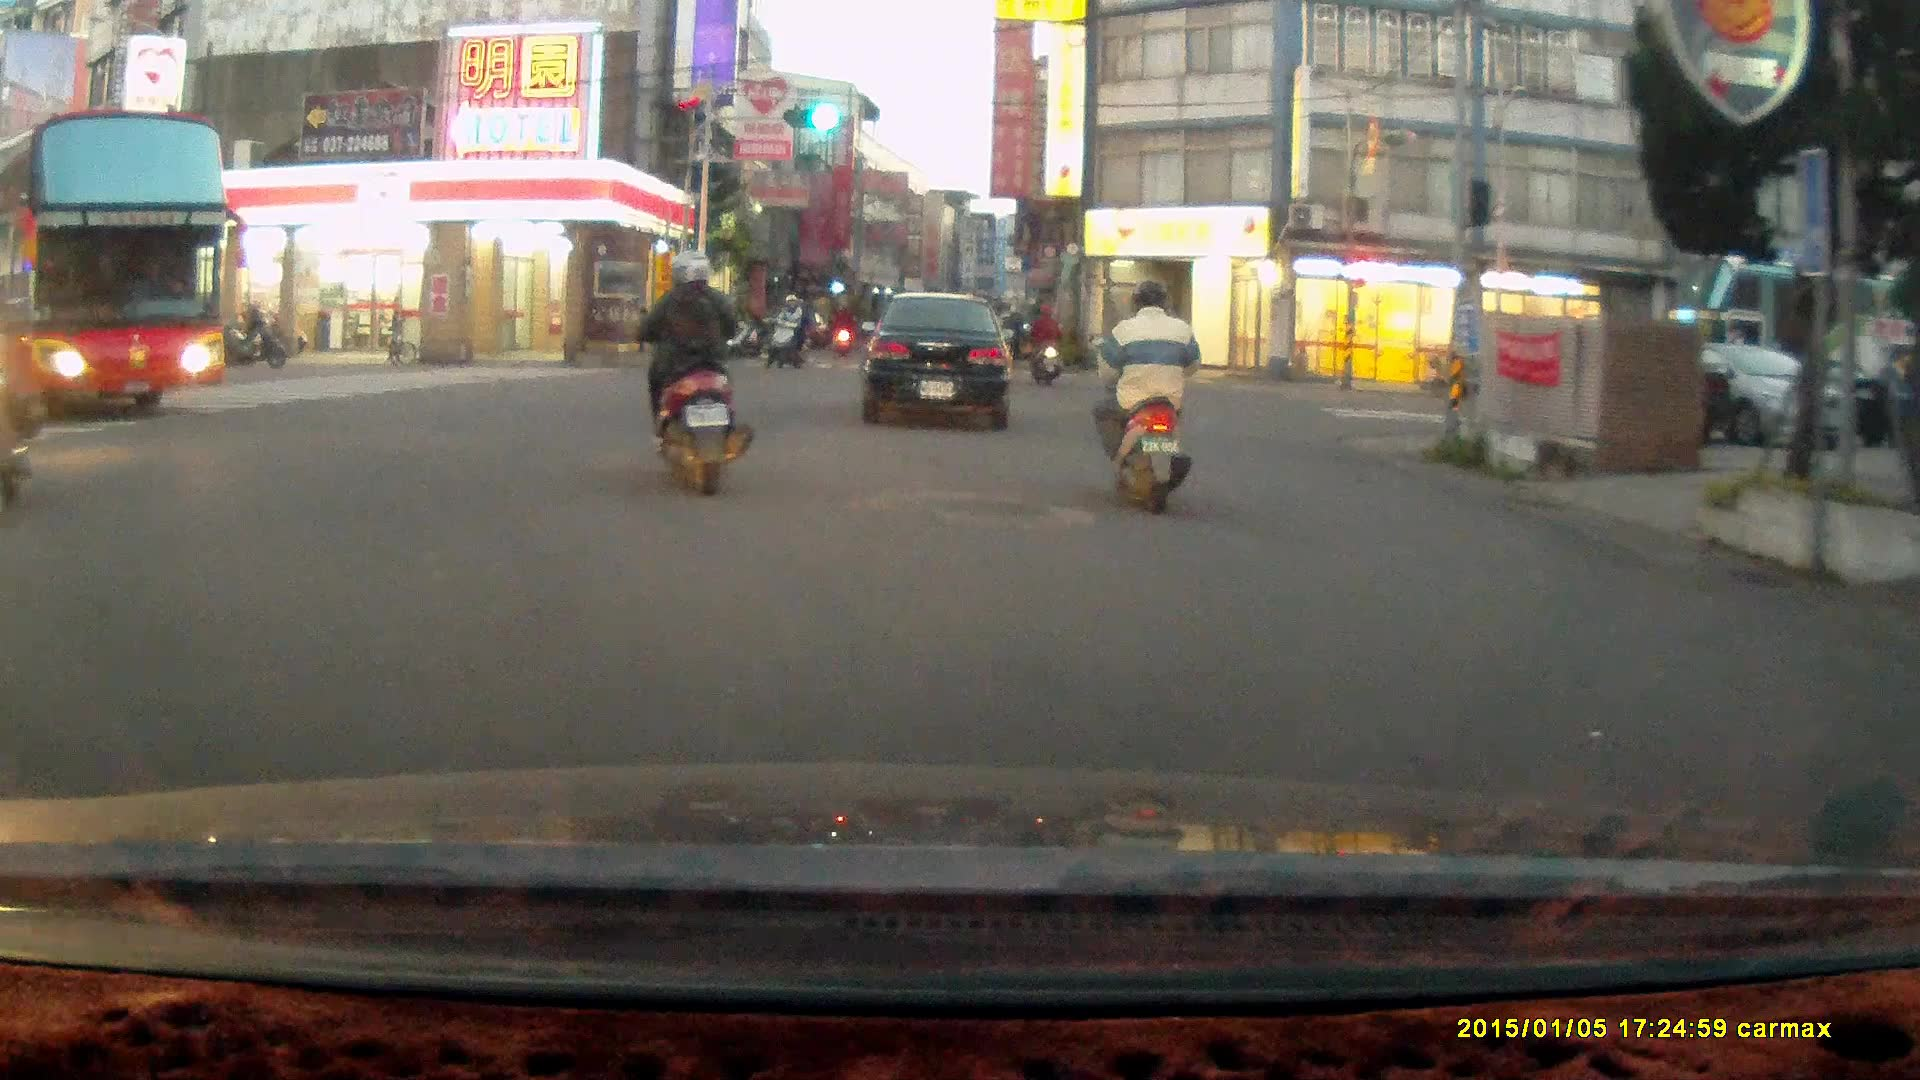rider: (628, 249, 756, 494), (1087, 278, 1200, 515), (1025, 297, 1064, 388), (764, 290, 805, 369)
vehicle: (1, 111, 236, 421), (1592, 339, 1863, 453), (866, 289, 1013, 430)
